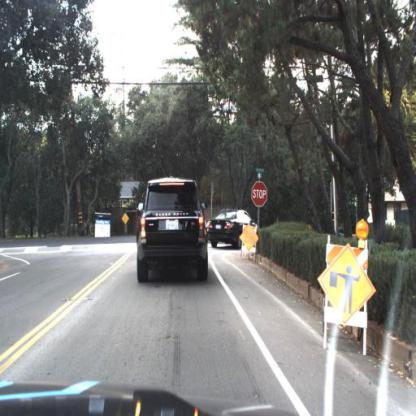car: (132, 171, 214, 288), (136, 177, 209, 286), (207, 206, 262, 252)
